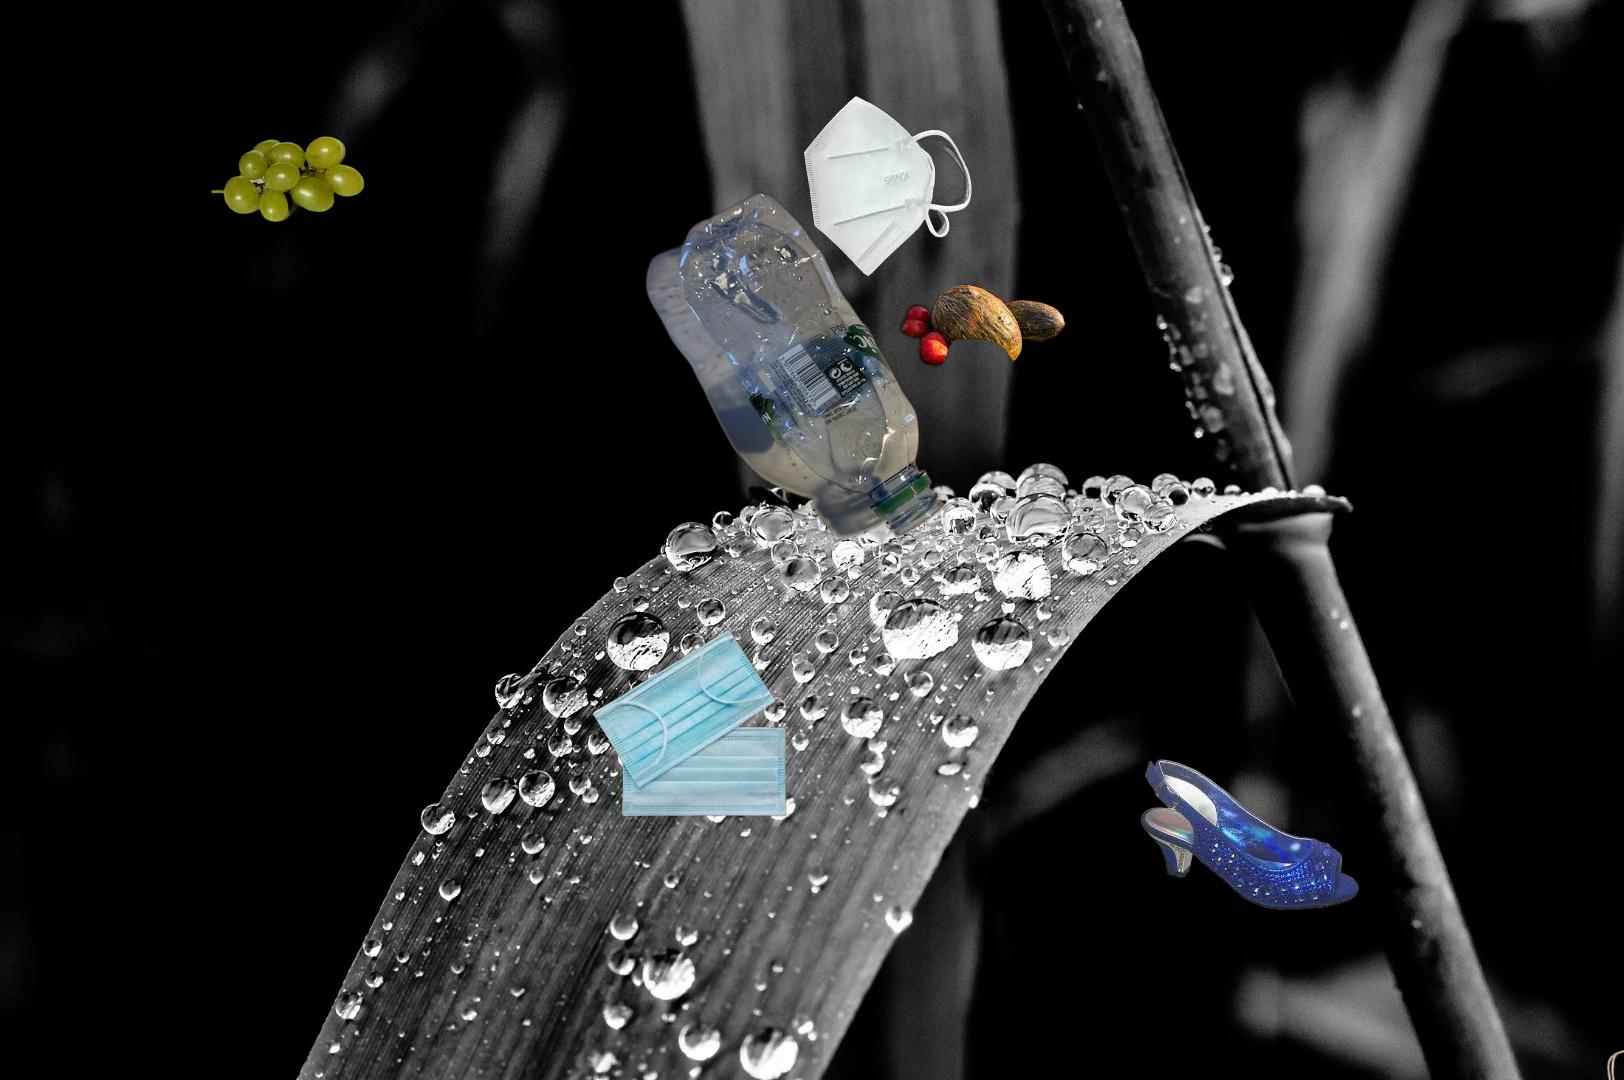biological: (896, 282, 1126, 376), (210, 133, 367, 225)
metal-cans: (434, 931, 722, 1080)
paper-bag: (1604, 999, 1624, 1080)
plastic-bottles: (642, 189, 945, 542)
shoes: (1138, 757, 1363, 912)
trash: (590, 628, 789, 818), (801, 93, 975, 278)
